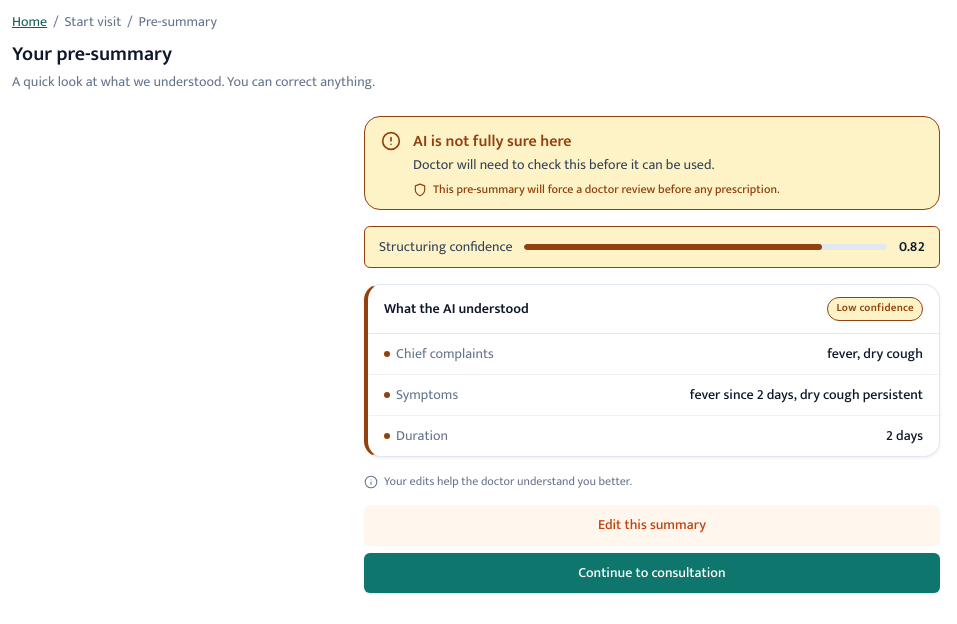
Scenario: PreSummaryReviewPage low-confidence variant (FEAT-007 scenario 2) › offers continuation with doctor-will-verify framing
The image size is (957, 624).
Click the button with test id "btn-confirm". click: (652, 573)
box: [364,553,940,593]
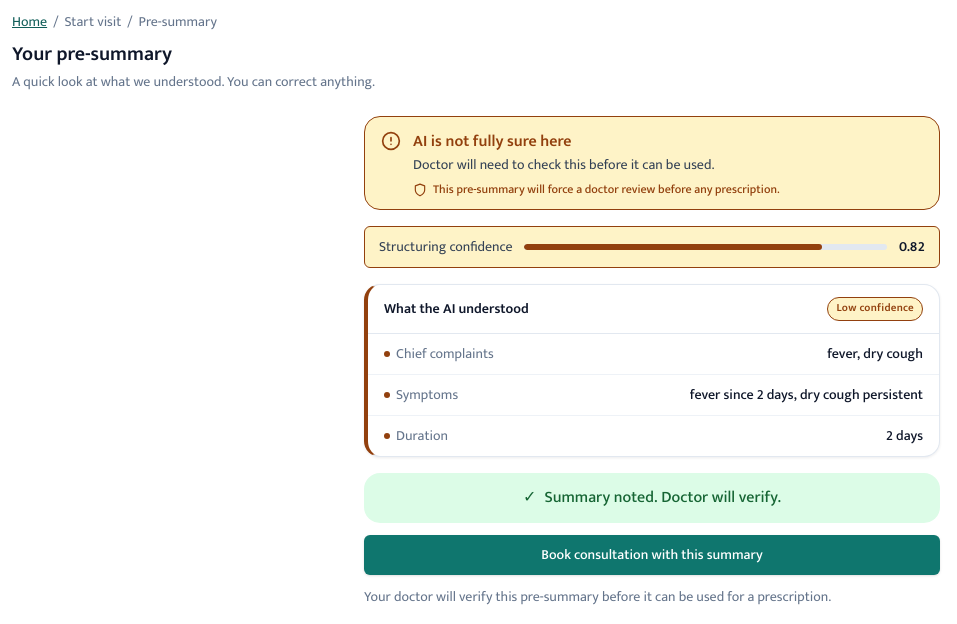
Result: the text with test id "done-line" reads "Summary noted. Doctor will verify." at [544,484,781,511]
Result: the text with test id "book-sub" shows "Your doctor will verify this pre-summary before it can be used for a prescription." at [364,585,831,608]
